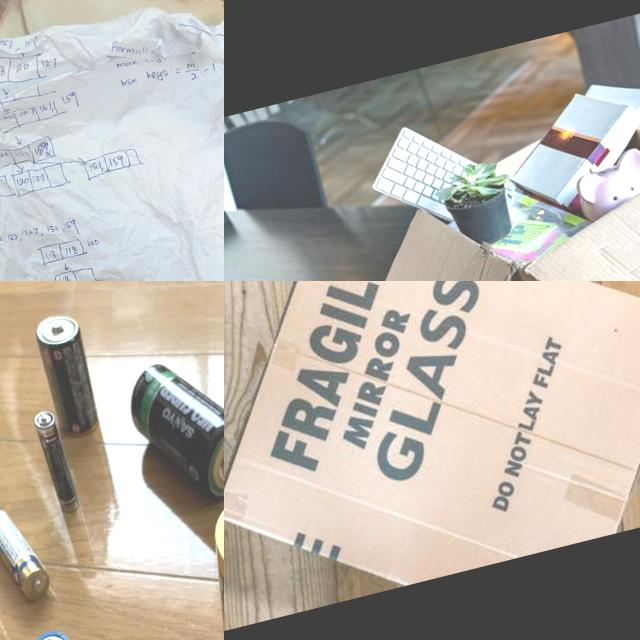bateria: (119, 342, 224, 509), (28, 306, 111, 444), (0, 484, 60, 613), (26, 399, 88, 520)
papel: (0, 0, 224, 281)
papelão: (224, 281, 640, 627), (352, 82, 640, 281)
